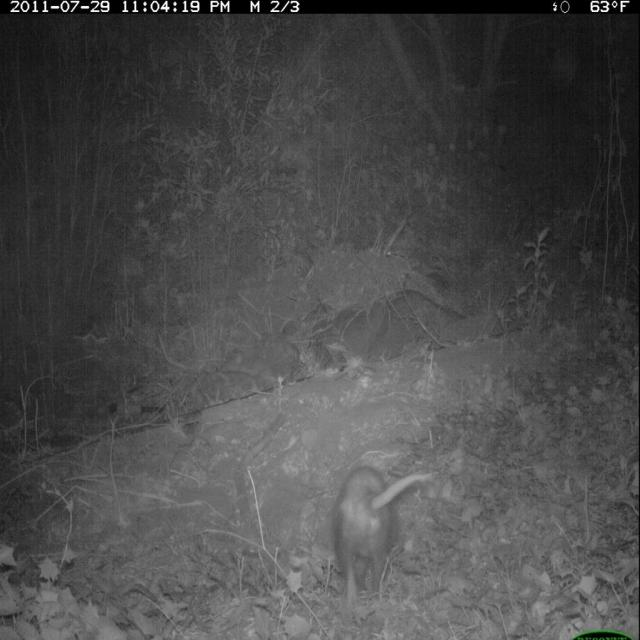opossum: (333, 456, 437, 618)
